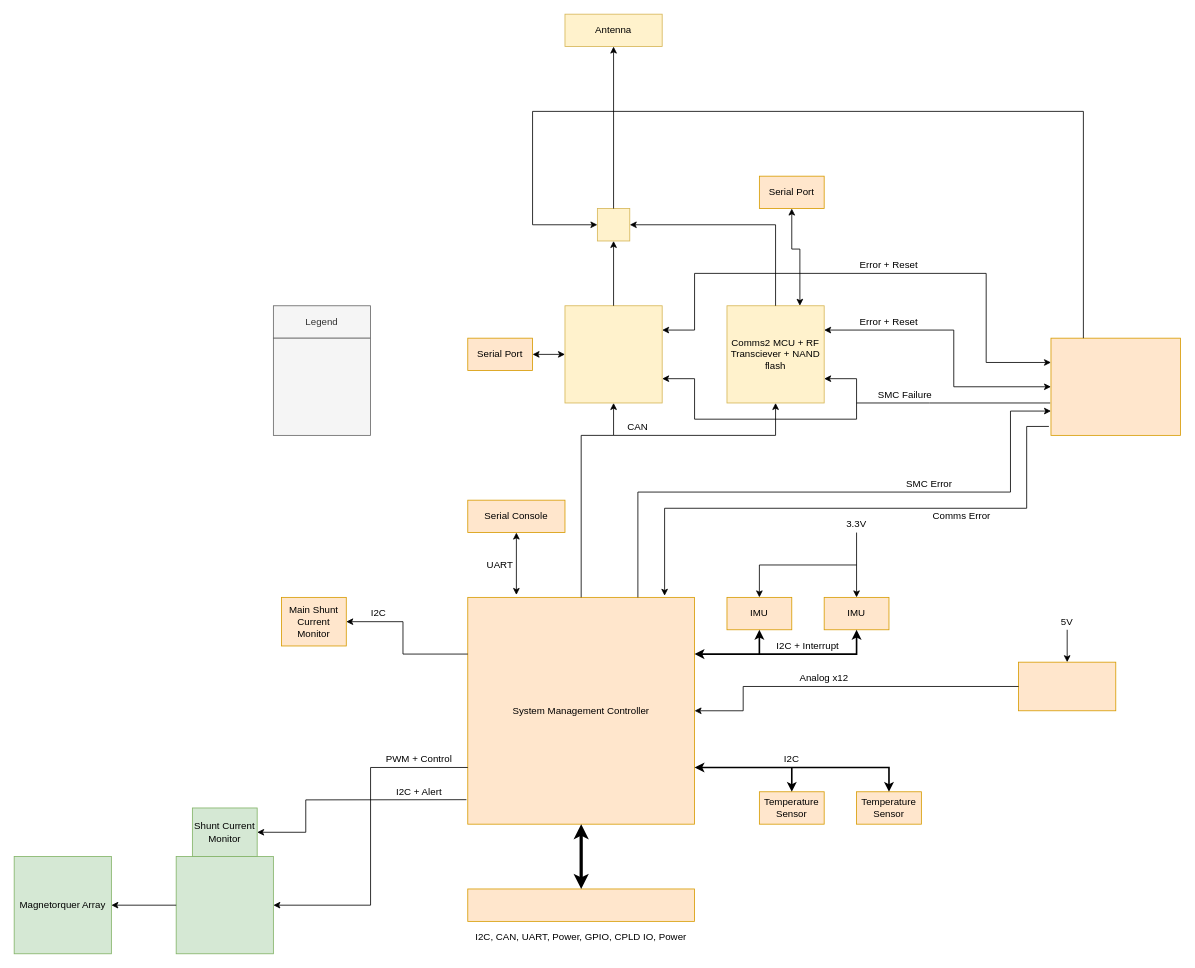
Image size: 1195x968. Some labels were removed from this diagram. Each missing label, with the box of its shape:
Comms1 MCU + RF Transceiver + NAND flash: (564, 305, 662, 403)
CPLD: (1050, 337, 1181, 435)
External Connector: (467, 888, 695, 921)
H Bridge: (175, 856, 273, 954)
Orange = Control Yellow = Comms Green = Drive Core: (273, 337, 371, 435)
RF MUX: (597, 208, 630, 241)
Sun Sensor ADC Headers: (1018, 661, 1116, 711)
